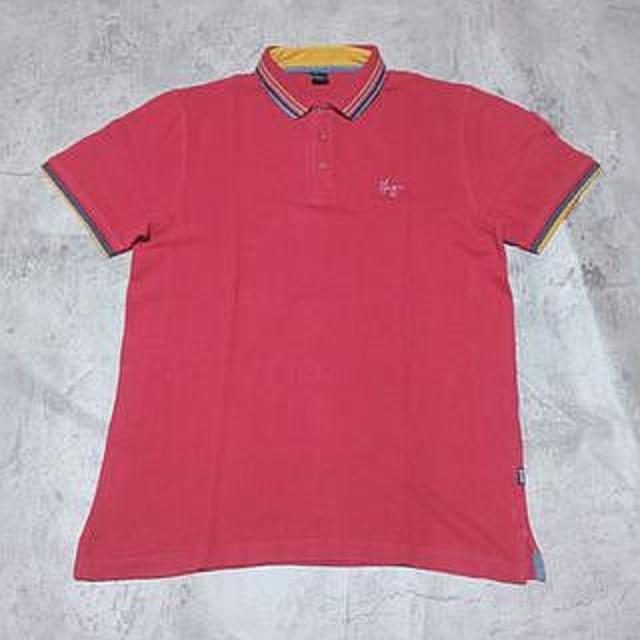T_SHIRT: (32, 33, 613, 590)
